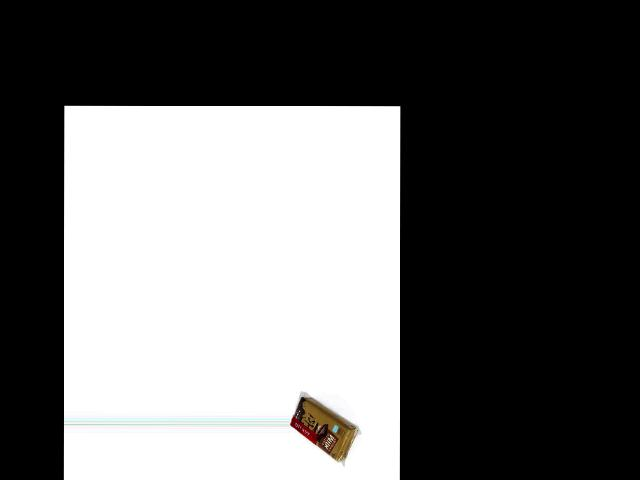chocolate: (291, 395, 357, 469)
